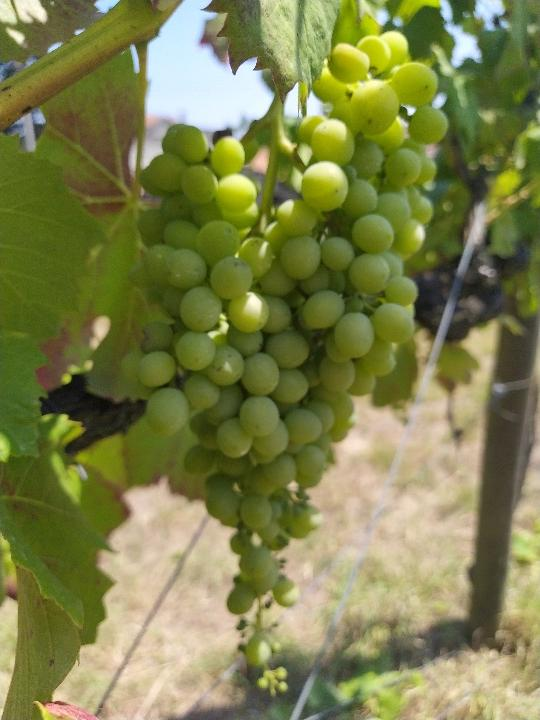grape: (137, 28, 449, 703)
